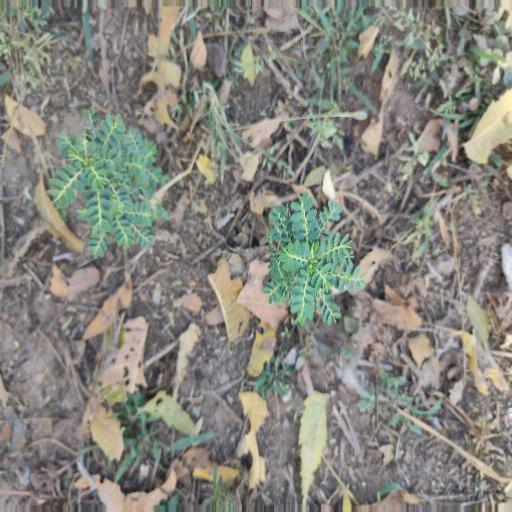weed: (37, 104, 179, 246), (247, 195, 384, 332)
